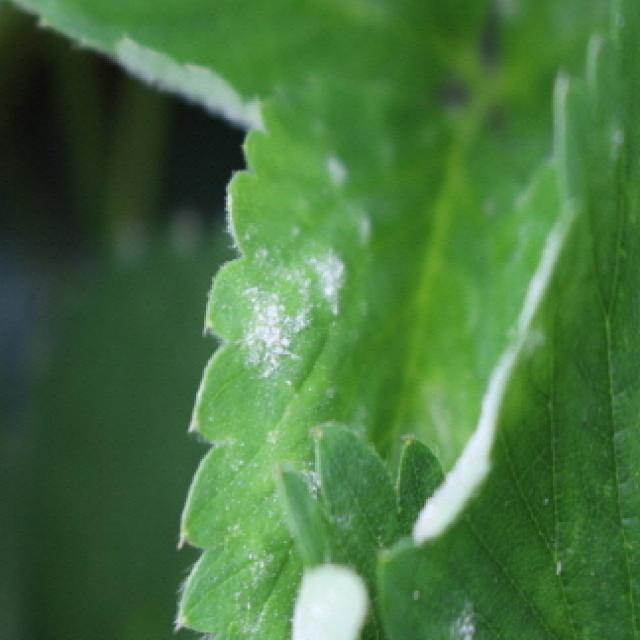Powdery Mildew Leaf: (177, 84, 560, 640), (374, 0, 640, 640), (4, 0, 499, 129), (270, 422, 452, 640)
